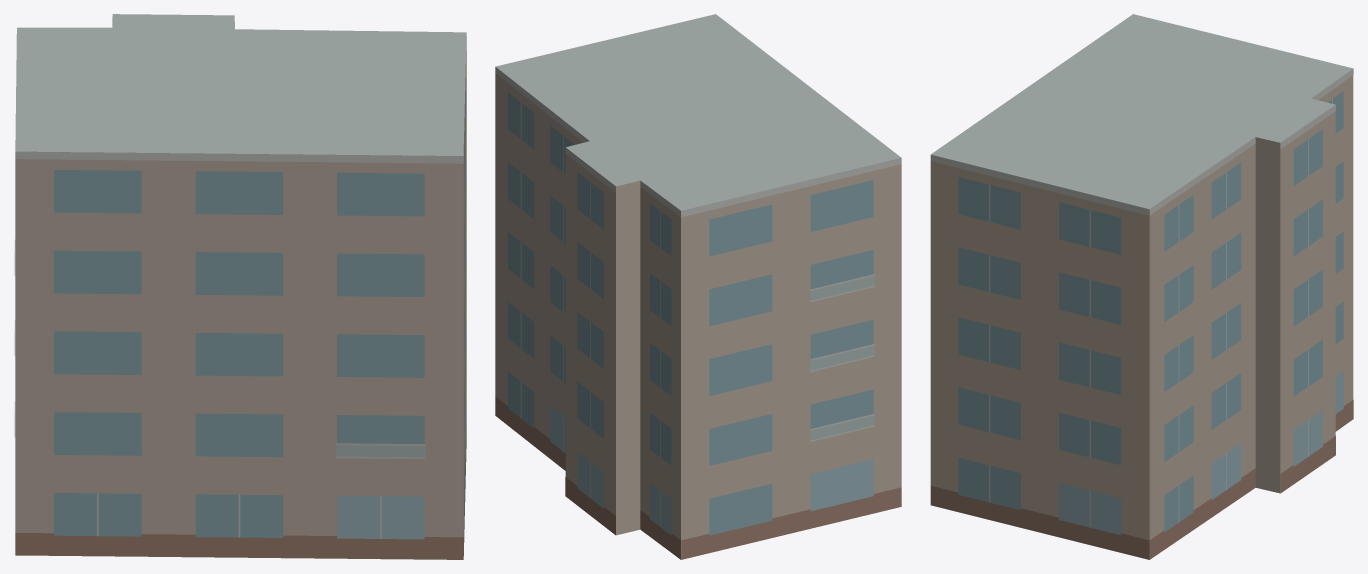
File: survey-upis-32674049.glb
3 renders of one model, left to right at view 1: azimuth 30°, elevation 25°; view 2: azimuth 150°, elevation 25°; view 3: azimuth 270°, elevation 25°, orthographic. The views are drawn at different scales.
Visible parts, largest first — view 1: survey-upis-32674049.tmp; view 2: survey-upis-32674049.tmp; view 3: survey-upis-32674049.tmp.
Boxes of the visible parts, <box> form: survey-upis-32674049.tmp: <box>14,14,466,559</box>; survey-upis-32674049.tmp: <box>495,14,901,559</box>; survey-upis-32674049.tmp: <box>930,14,1353,559</box>.
Bounding box in the file's own units: 15.71 × 13.15 × 14.38.
